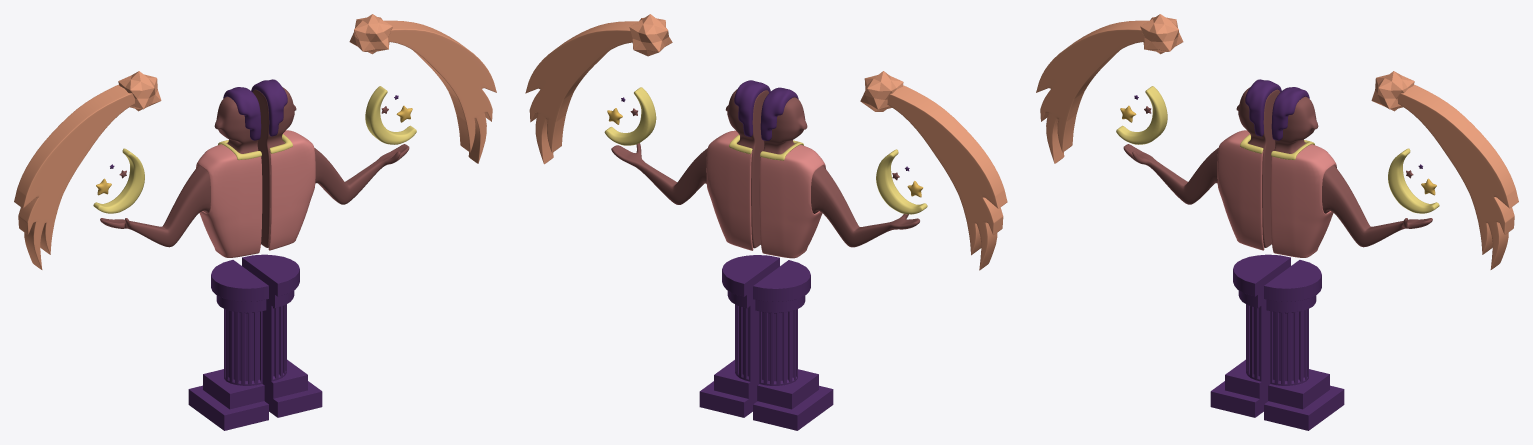
The model's file is badrpost-sign-4967 (1).glb.
3 renders of one model, left to right at view 1: azimuth 30°, elevation 25°; view 2: azimuth 150°, elevation 25°; view 3: azimuth 330°, elevation 25°, orthographic.
Parts seen in each view (by area): view 1: Roman Columns, Meteor, T-SHIRT, Cube.001, crescent moon and stars, Icosphere, HAIR, T-SHIRT.002; view 2: Roman Columns, Meteor, T-SHIRT, Cube.001, crescent moon and stars, Icosphere, HAIR, T-SHIRT.002; view 3: Roman Columns, Meteor, T-SHIRT, Cube.001, crescent moon and stars, Icosphere, HAIR, T-SHIRT.002.
Part boxes in pixels (box(x1,y1,x2,y2)): Roman Columns: box(188, 254, 322, 430); Meteor: box(14, 20, 496, 269); T-SHIRT: box(196, 130, 315, 257); Cube.001: box(100, 87, 409, 247); crescent moon and stars: box(93, 86, 416, 213); Icosphere: box(118, 14, 392, 111); HAIR: box(223, 79, 287, 140); T-SHIRT.002: box(218, 134, 292, 159); Roman Columns: box(699, 255, 833, 430); Meteor: box(525, 21, 1007, 270); T-SHIRT: box(706, 130, 825, 258); Cube.001: box(611, 89, 919, 248); crescent moon and stars: box(604, 87, 927, 214); Icosphere: box(629, 14, 903, 111); HAIR: box(734, 80, 798, 140); T-SHIRT.002: box(729, 134, 803, 160); Roman Columns: box(1210, 254, 1344, 430); Meteor: box(1036, 20, 1518, 269); T-SHIRT: box(1217, 130, 1336, 257); Cube.001: box(1123, 87, 1432, 247); crescent moon and stars: box(1116, 86, 1439, 213); Icosphere: box(1140, 14, 1414, 111); HAIR: box(1245, 79, 1309, 140); T-SHIRT.002: box(1240, 134, 1314, 159).
Bounding box in the file's own units: 0.3059 × 0.2243 × 0.0401.
